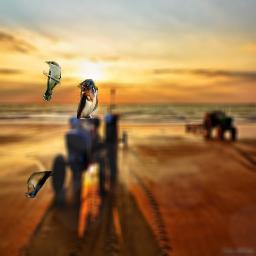Cuckoo: (43, 61, 61, 101)
Swallow: (25, 171, 61, 198), (77, 79, 98, 119)
